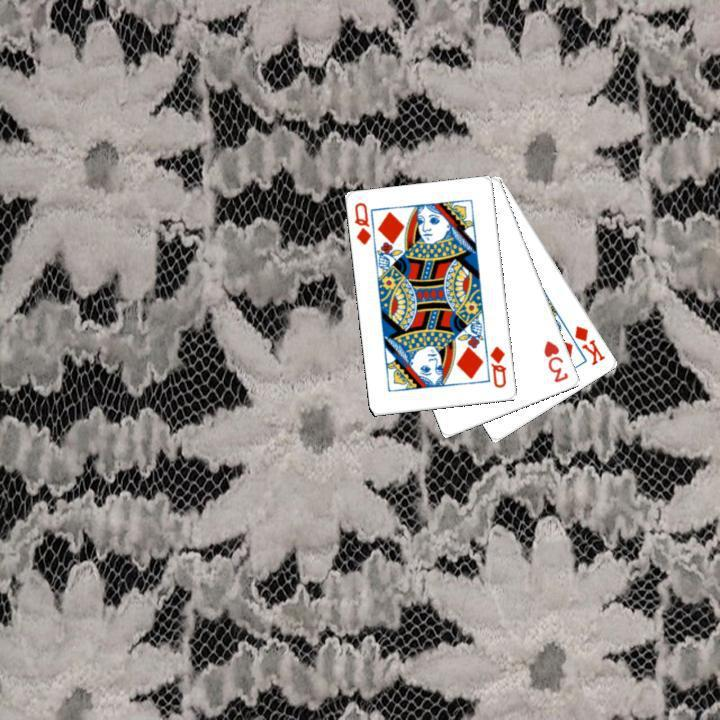3: (540, 336, 571, 385)
K: (570, 321, 607, 367)
Q: (350, 198, 373, 247), (486, 342, 509, 390)
